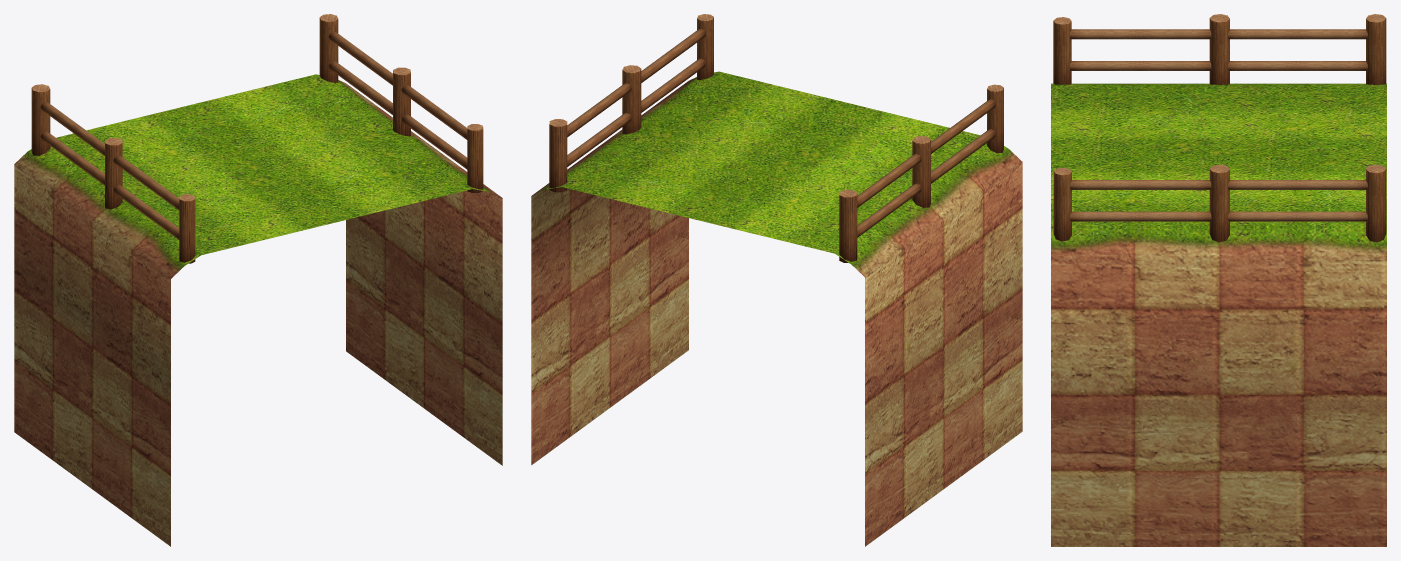
File: Ground05.FBX
The picture shows the model from 3 angles, left to right: view 1: azimuth 30°, elevation 25°; view 2: azimuth 150°, elevation 25°; view 3: azimuth 270°, elevation 25°; orthographic projection. The views are drawn at different scales.
Parts seen in each view (by area): view 1: Ground, Fence (×2); view 2: Ground, Fence (×2); view 3: Ground, Fence (×2).
Part boxes in pixels (box(x1,y1,x2,y2)): Ground: box(14, 74, 502, 546); Fence (×2): box(31, 14, 483, 263); Ground: box(531, 71, 1022, 546); Fence (×2): box(549, 14, 1003, 262); Ground: box(1051, 83, 1386, 546); Fence (×2): box(1053, 14, 1386, 242).
Size of the model in its own units: 4.65 by 4.59 by 3.81.
